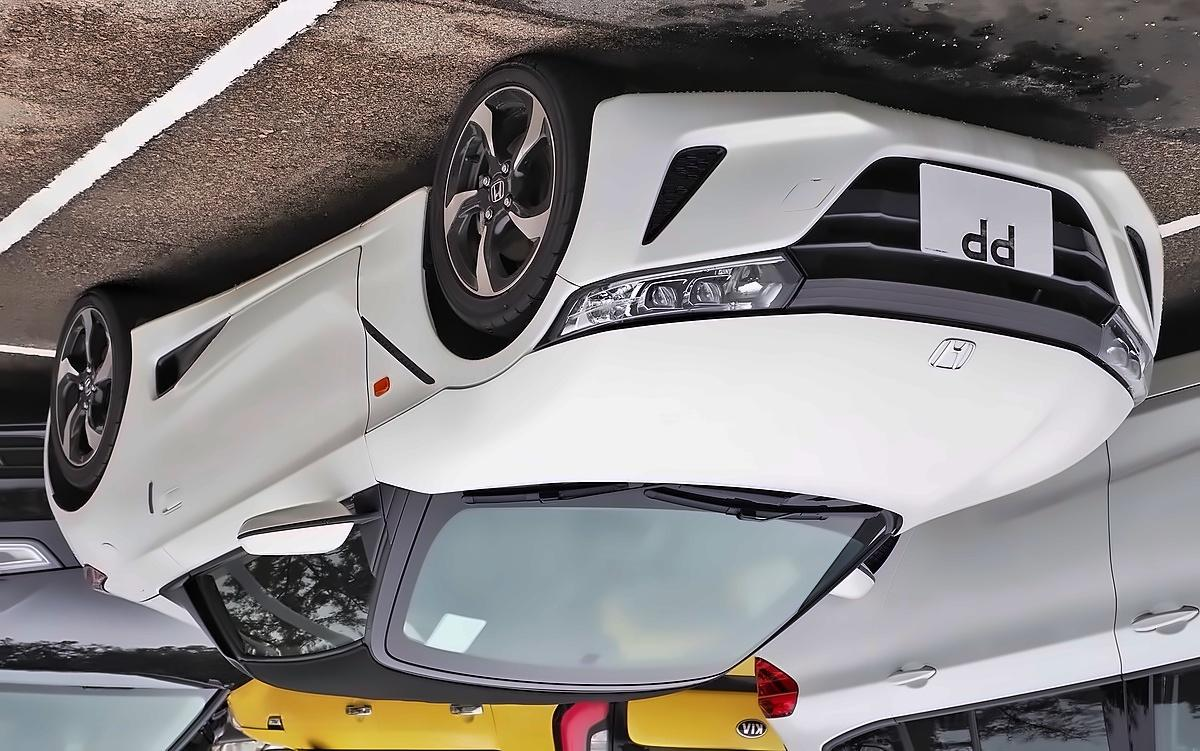Car hood: (366, 308, 1143, 524)
Fender - -R-L-: (61, 310, 164, 574)
Front bumper: (550, 78, 1183, 307)
Headlight - -L-: (532, 242, 817, 349)
Headlight - -R-: (1070, 294, 1159, 416)
Passenger-s door - -F-L-: (154, 268, 403, 678)
Rear bumper: (14, 398, 70, 520)
Rear light - -L-: (66, 558, 132, 627)
Side bumper - -L-: (114, 168, 441, 364)
Side mirror - -L-: (231, 494, 368, 576)
Side mirror - -R-: (816, 530, 895, 613)
